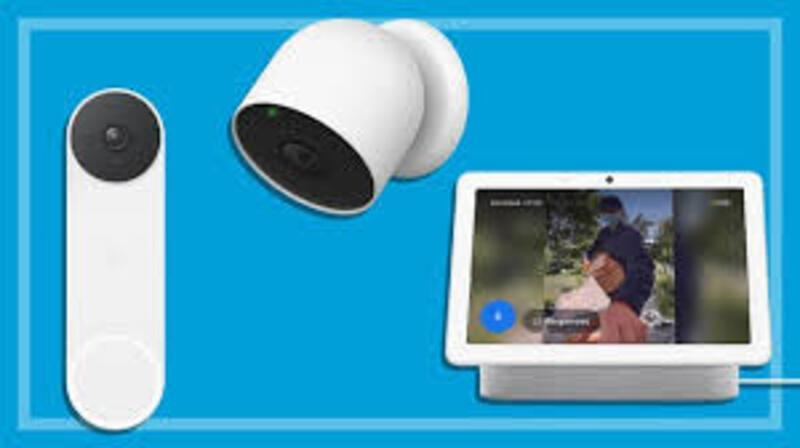doorbell: (60, 90, 167, 430)
nest: (223, 13, 424, 228)
